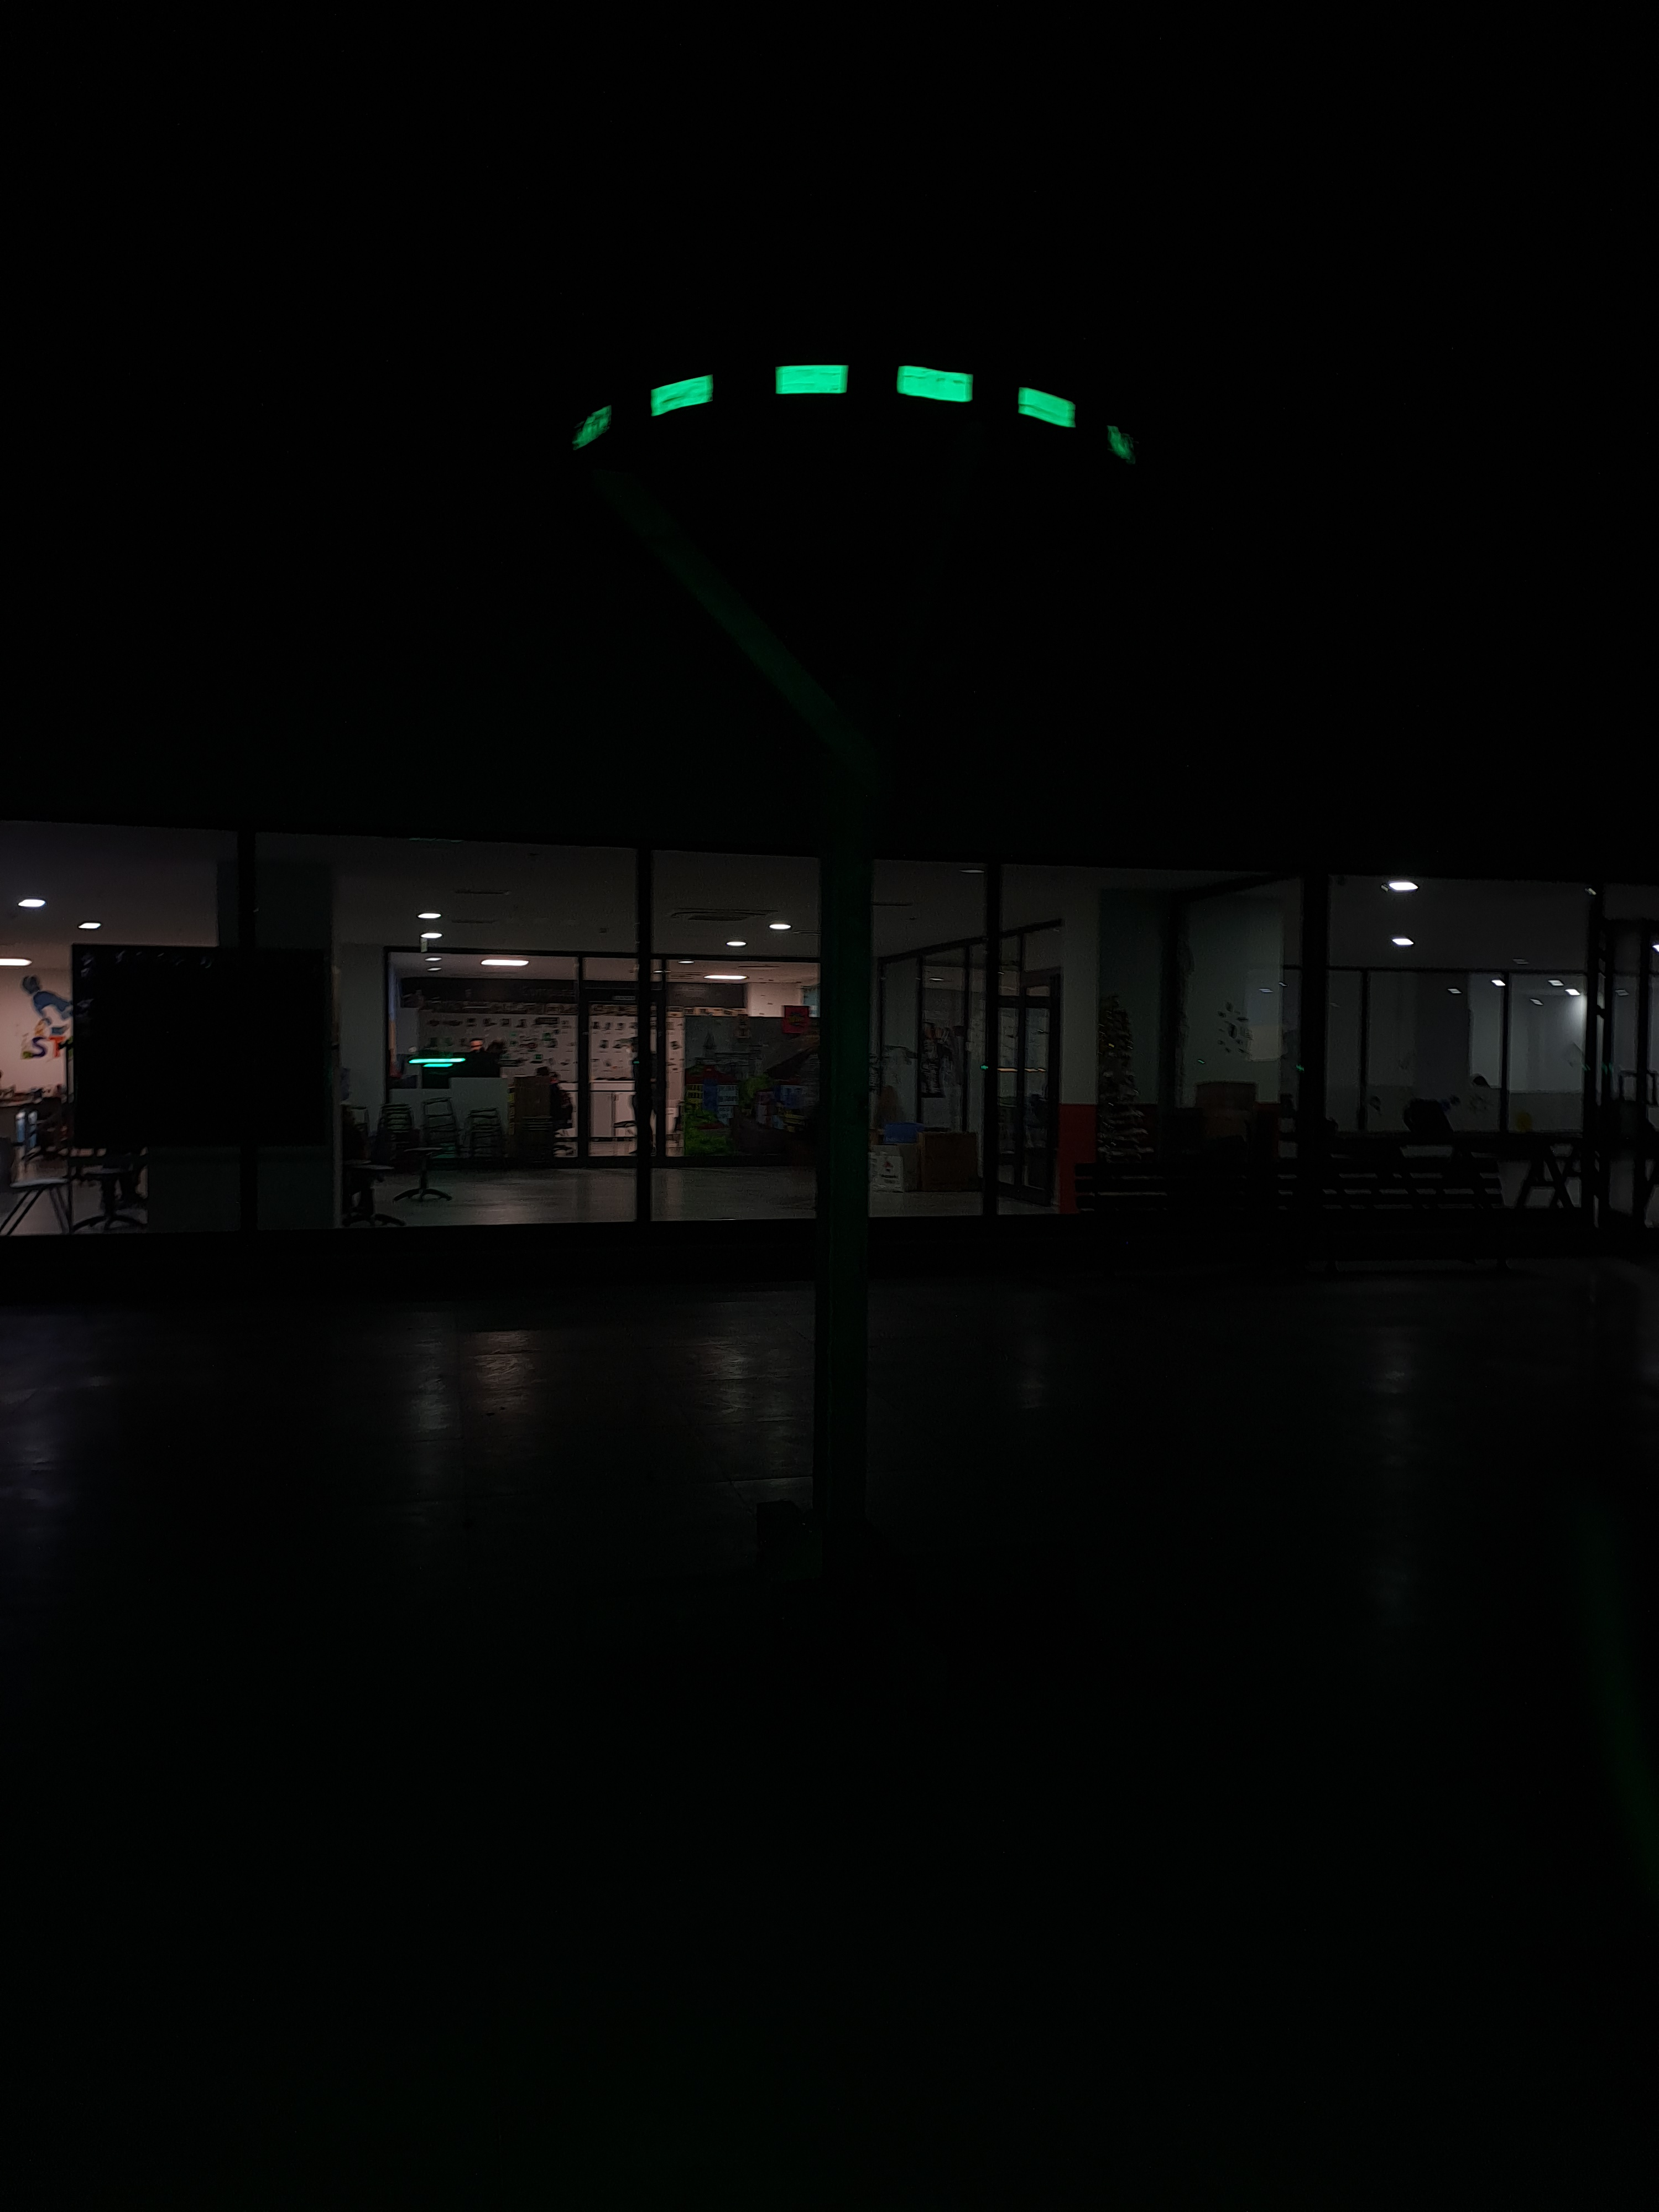hoop: (575, 357, 1141, 470)
